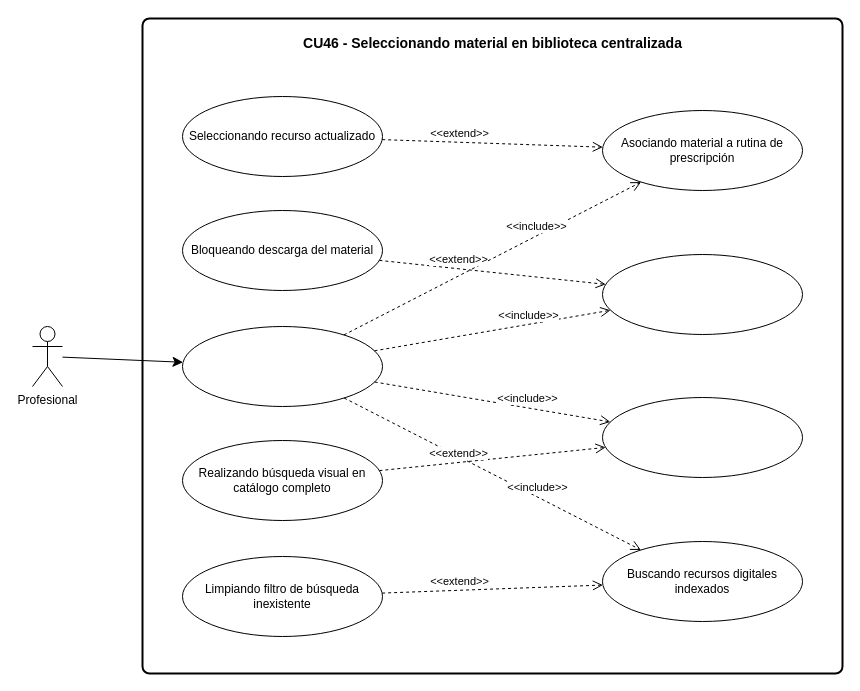
Some shapes in this 860 by 691 pixel diagram are drawn without their labels. The shapes that lost their labels are listed below. From the top down, each one's centre as x and y in pixels, then its label:
At [702,294]: "Visualizando material en visor embebido".
At [282,366]: "Seleccionando material en biblioteca centralizada".
At [702,437]: "Filtrando resultados mediante metadatos".
